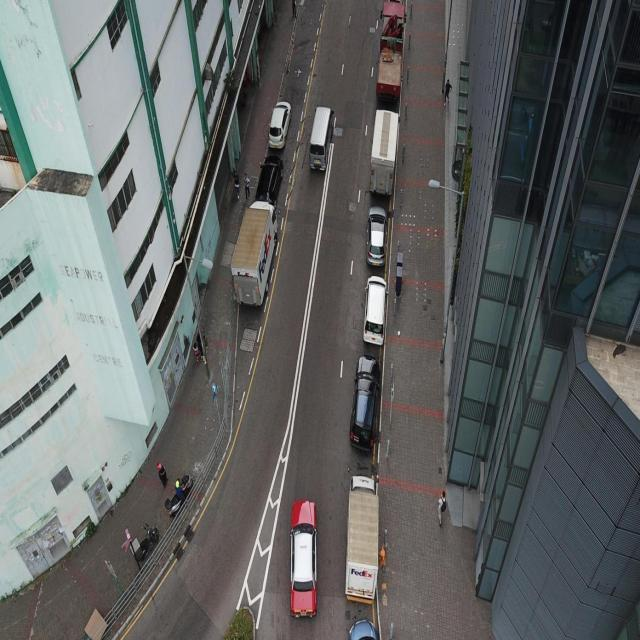p3rson: (154, 460, 168, 488), (436, 488, 446, 525), (195, 329, 203, 360), (443, 76, 451, 105), (242, 171, 250, 200), (233, 168, 240, 198), (192, 341, 199, 362), (203, 333, 209, 354)
